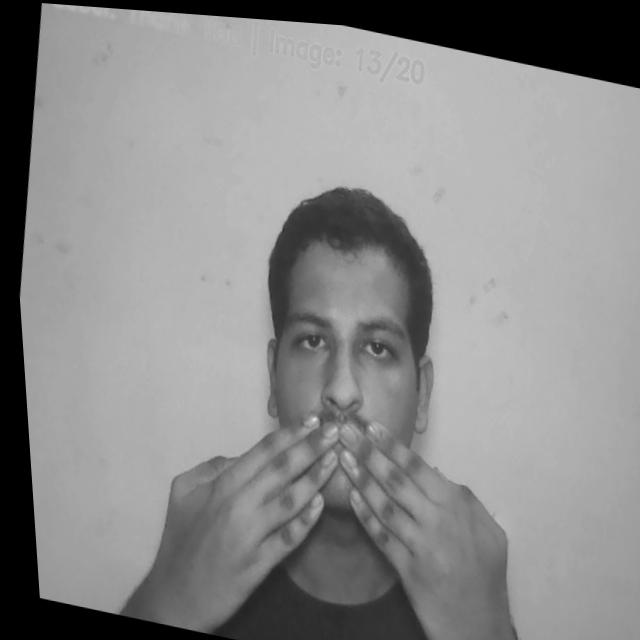Thank You: (135, 375, 524, 640)
